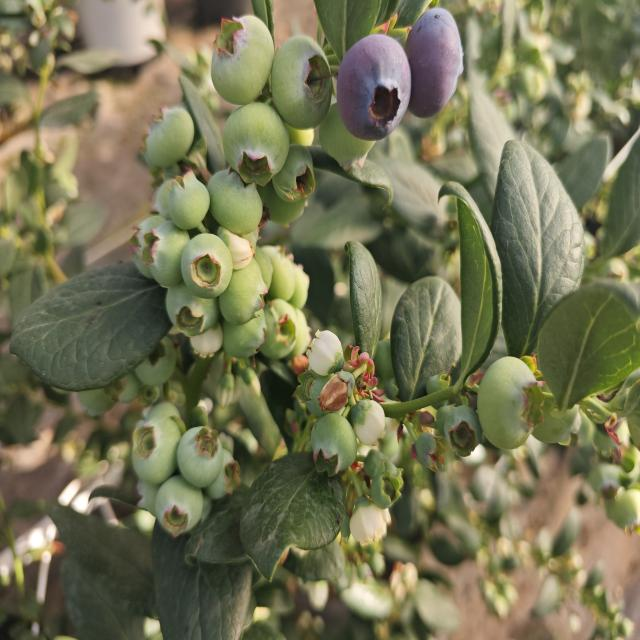ripe: (330, 21, 413, 145), (399, 5, 470, 126)
